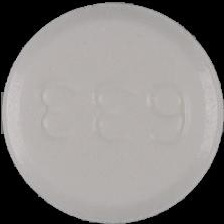68788-9180: (0, 0, 224, 224)
